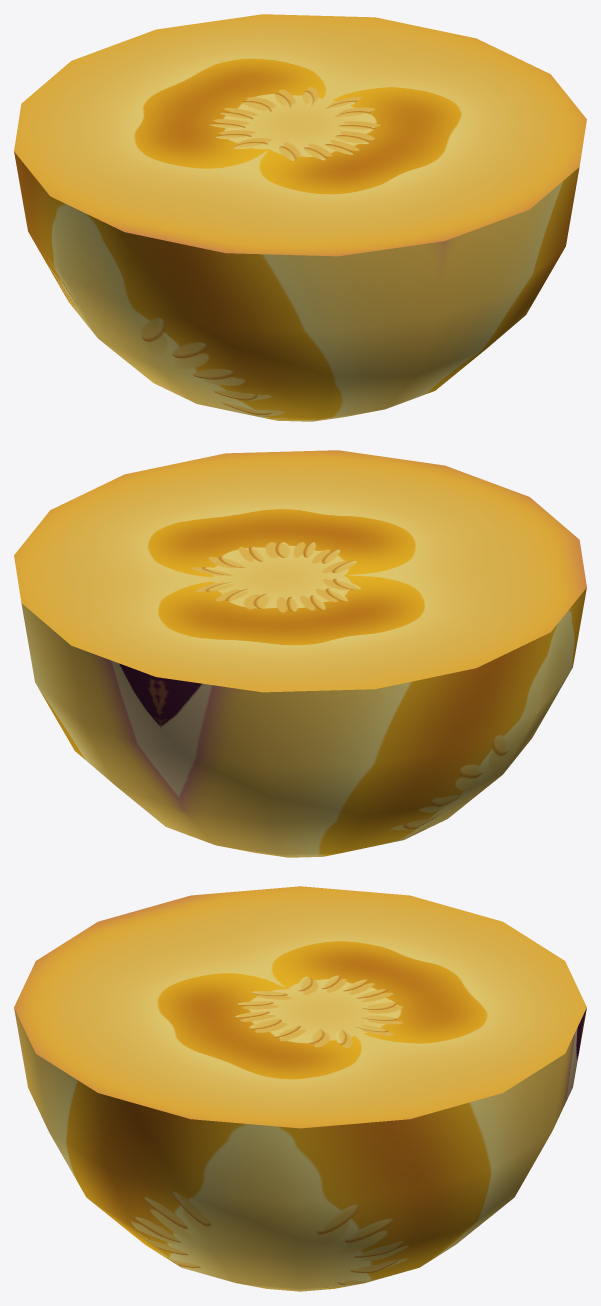
The model's file is Star_Apple_01_Half.fbx.
The picture shows the model from 3 angles, top to bottom: view 1: azimuth 30°, elevation 25°; view 2: azimuth 150°, elevation 25°; view 3: azimuth 270°, elevation 25°; orthographic projection.
Parts seen in each view (by area): view 1: Star_Apple_01_Half; view 2: Star_Apple_01_Half; view 3: Star_Apple_01_Half.
Part boxes in pixels (box(x1,y1,x2,y2)): Star_Apple_01_Half: box(14, 14, 586, 421); Star_Apple_01_Half: box(14, 450, 586, 857); Star_Apple_01_Half: box(14, 886, 586, 1291).
Size of the model in its own units: 33.74 by 16.87 by 33.74.
